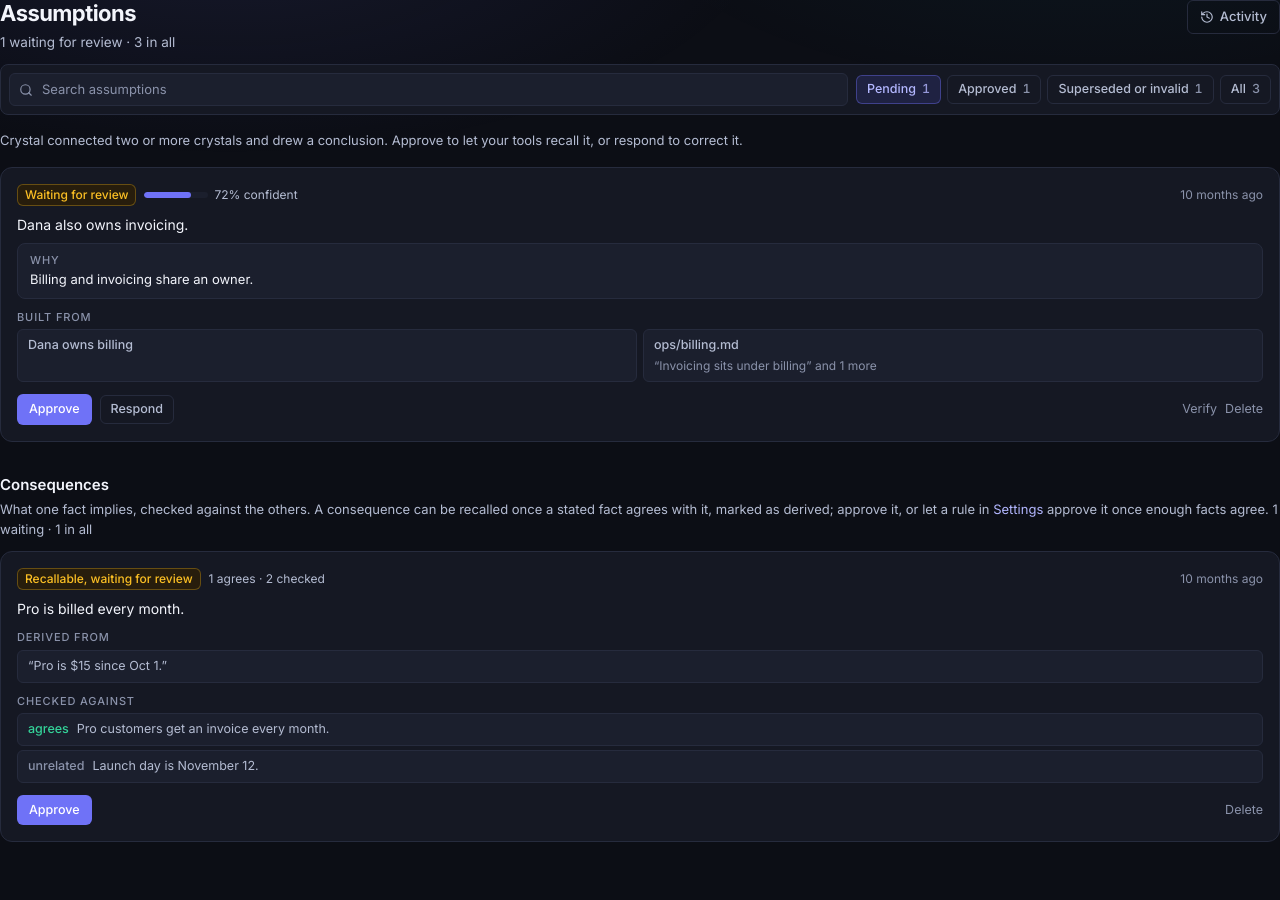
it: Assumptions (Refine PR 7) › defaults to pending, counts in the header, and links parents to the bank
Check: the text "1 waiting for review · 3 in all" is shown, box left=0, top=32, right=175, bottom=52
Check: the text "Dana also owns invoicing." is shown, box left=17, top=216, right=188, bottom=233
Step 1. Click the button "All 3" → coordinates (1245, 90), box left=1220, top=75, right=1271, bottom=104
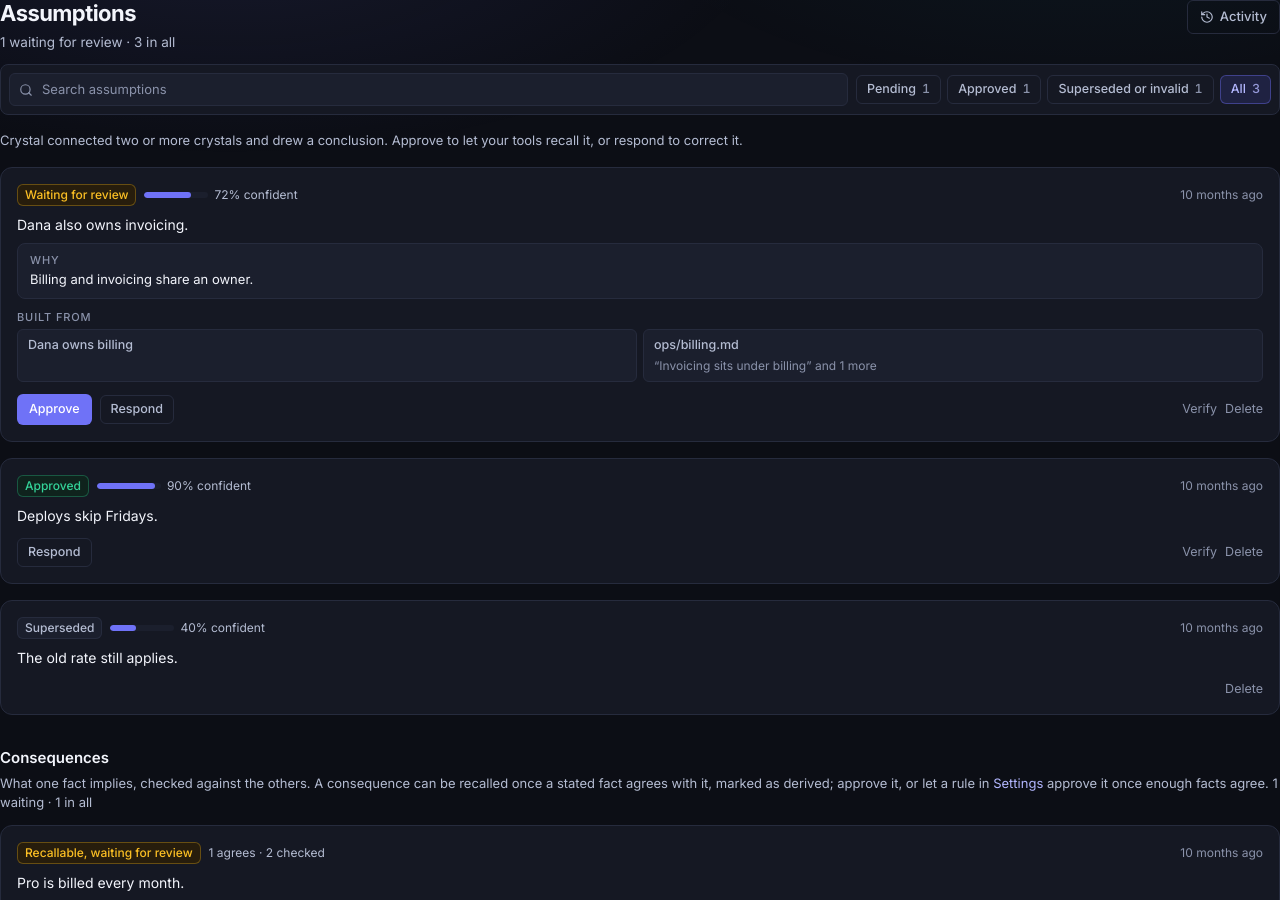
Check: the text "Deploys skip Fridays." is shown, box left=17, top=507, right=158, bottom=524
Check: the text "Superseded" is shown, box left=17, top=616, right=102, bottom=638
